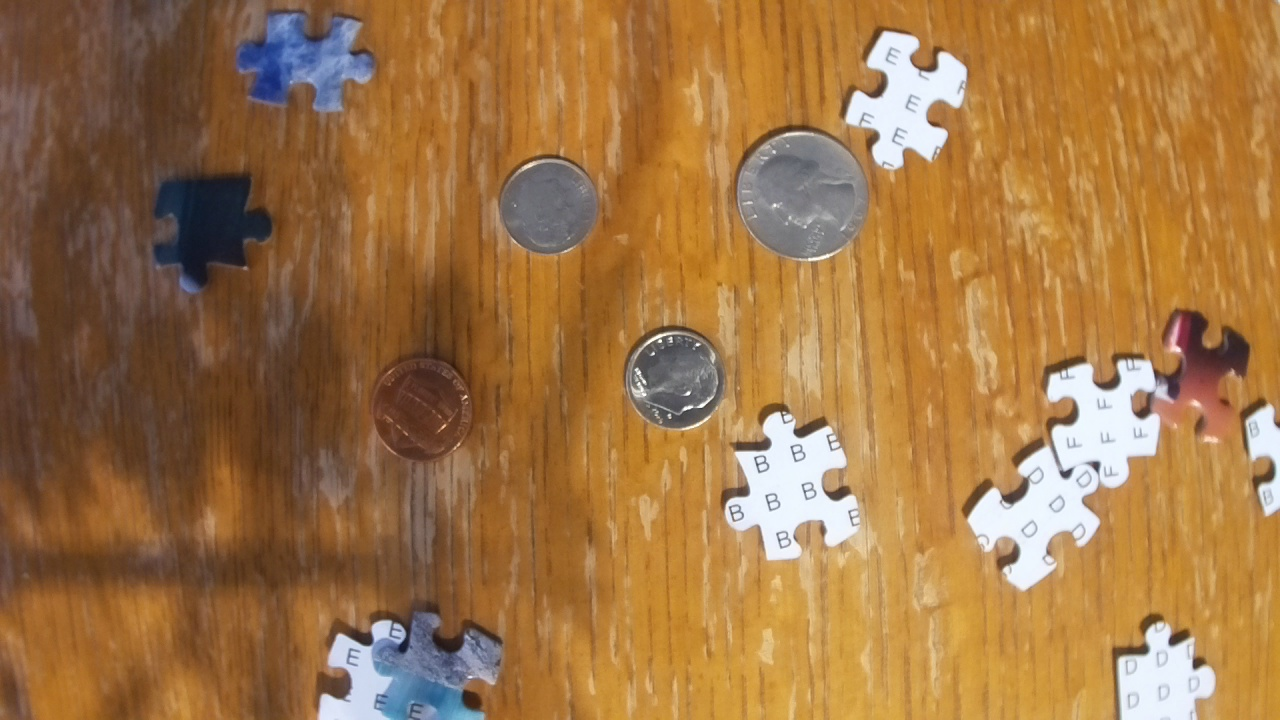dime: (624, 324, 724, 432), (499, 154, 599, 258)
penny: (371, 351, 475, 463)
quarter: (734, 129, 870, 263)
